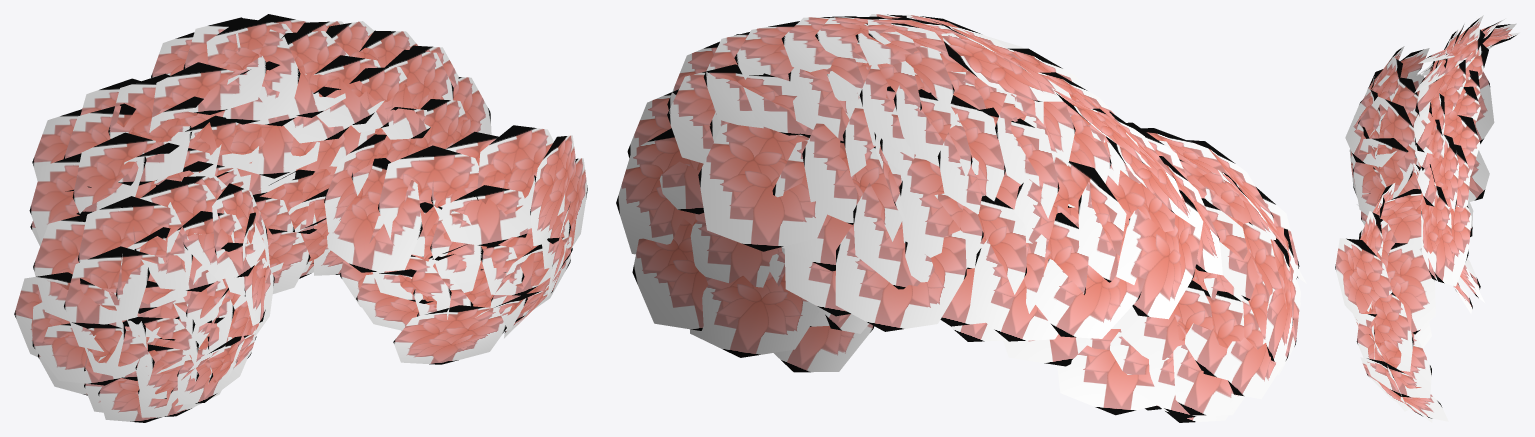
The model's file is TreeLeavesEdited.FBX.
The picture shows the model from 3 angles, left to right: view 1: azimuth 30°, elevation 25°; view 2: azimuth 150°, elevation 25°; view 3: azimuth 270°, elevation 25°; orthographic projection. The views are drawn at different scales.
Visible parts, largest first — view 1: Arbol Leaves; view 2: Arbol Leaves; view 3: Arbol Leaves.
Part boxes in pixels (box(x1,y1,x2,y2)): Arbol Leaves: box(14, 14, 587, 422); Arbol Leaves: box(616, 14, 1306, 422); Arbol Leaves: box(1335, 15, 1519, 422).
Size of the model in its own units: 2019 by 1232 by 683.
